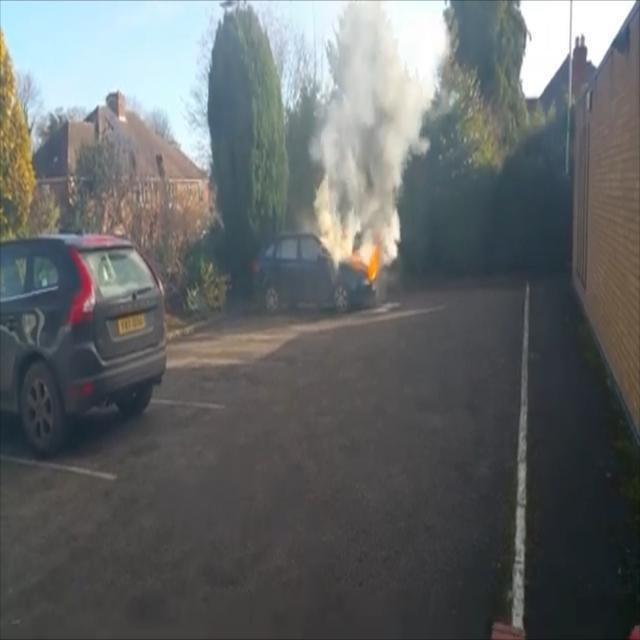fire: (328, 223, 386, 290)
